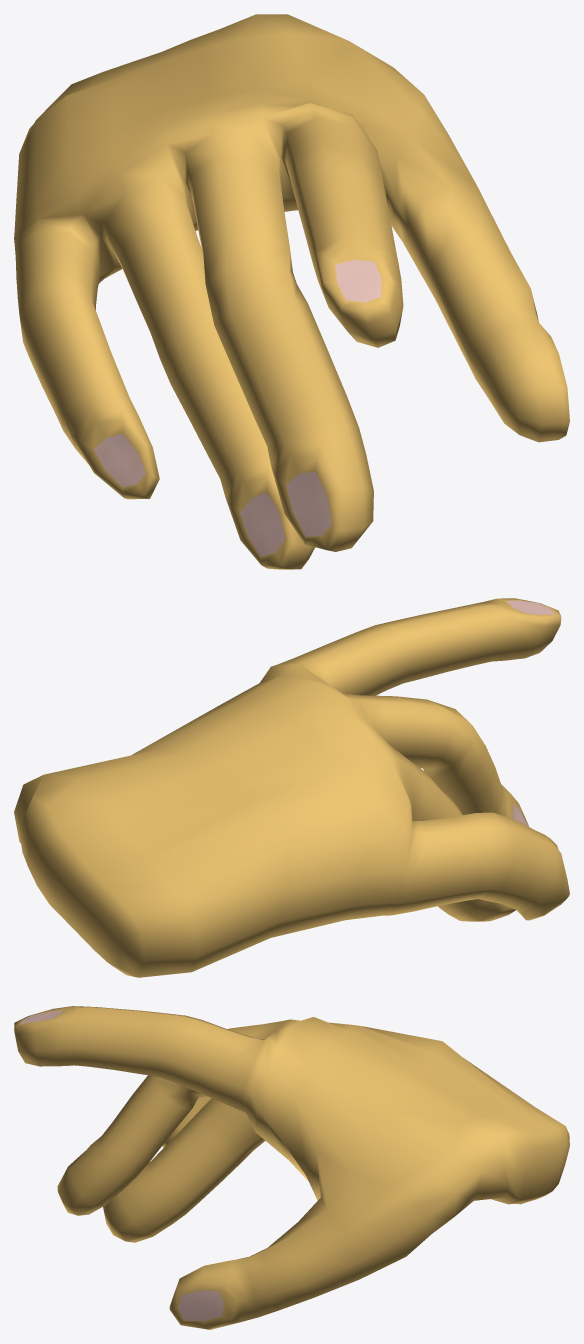
Rendered from Hand_Police.fbx.
3 renders of one model, top to bottom at view 1: azimuth 30°, elevation 25°; view 2: azimuth 150°, elevation 25°; view 3: azimuth 270°, elevation 25°, orthographic. The views are drawn at different scales.
Visible parts, largest first — view 1: Hand.002; view 2: Hand.002; view 3: Hand.002.
Boxes of the visible parts, box(x1,y1,x2,y2) form: Hand.002: box(14, 14, 569, 569); Hand.002: box(14, 598, 569, 977); Hand.002: box(14, 1006, 569, 1329).
Size of the model in its own units: 461 by 638 by 314.
